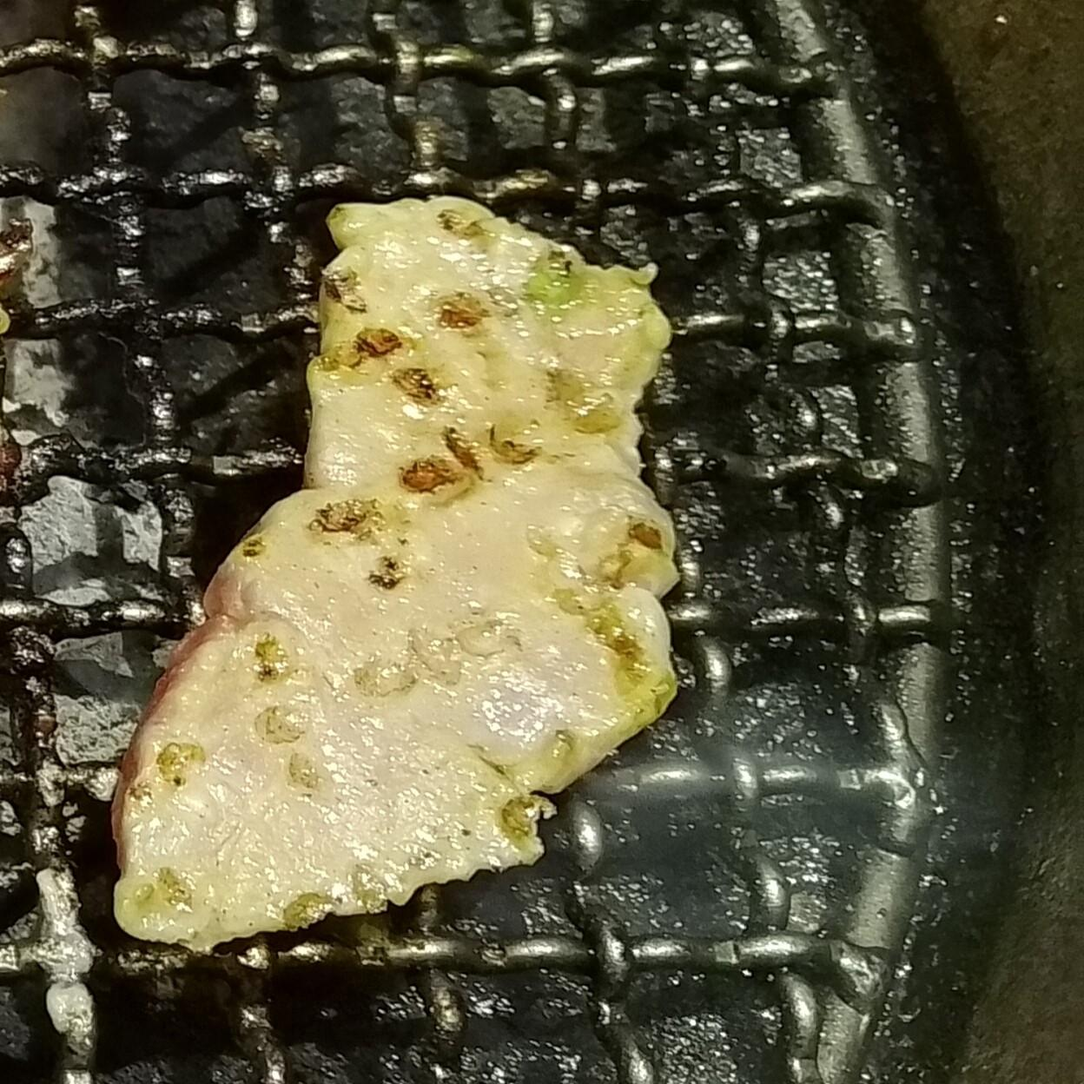Well-Cooked: (109, 197, 684, 957)
